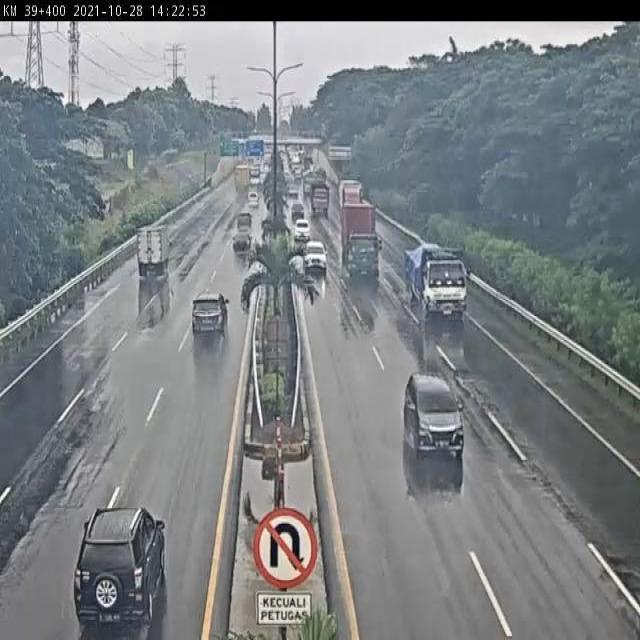truck-l-: (403, 243, 470, 320)
truck-s-: (134, 223, 172, 281)
truck-xl-: (340, 201, 382, 283)
